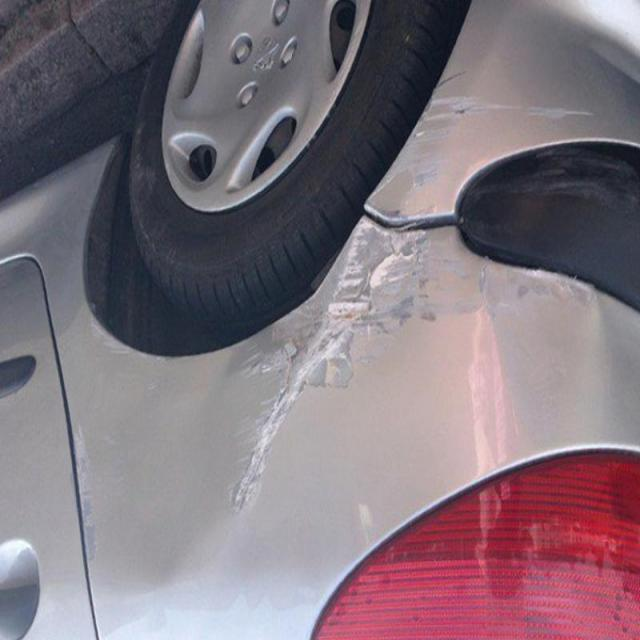scratch: (204, 214, 486, 542)
